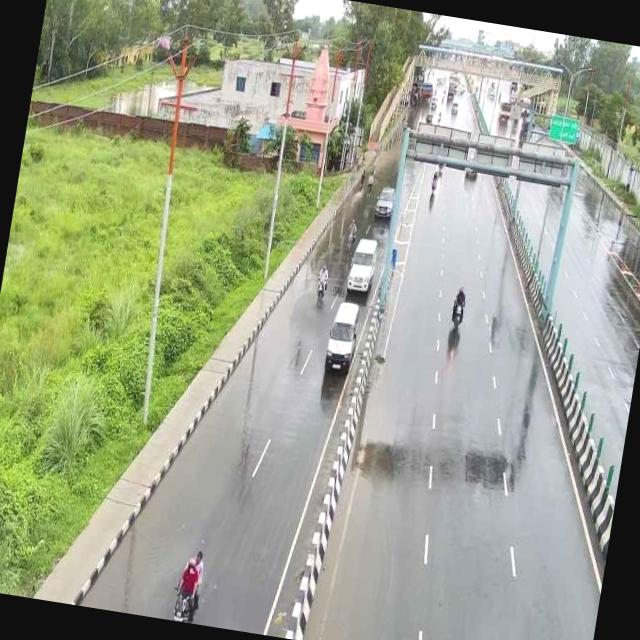car: (318, 296, 368, 382), (343, 230, 385, 300), (370, 181, 400, 225)
